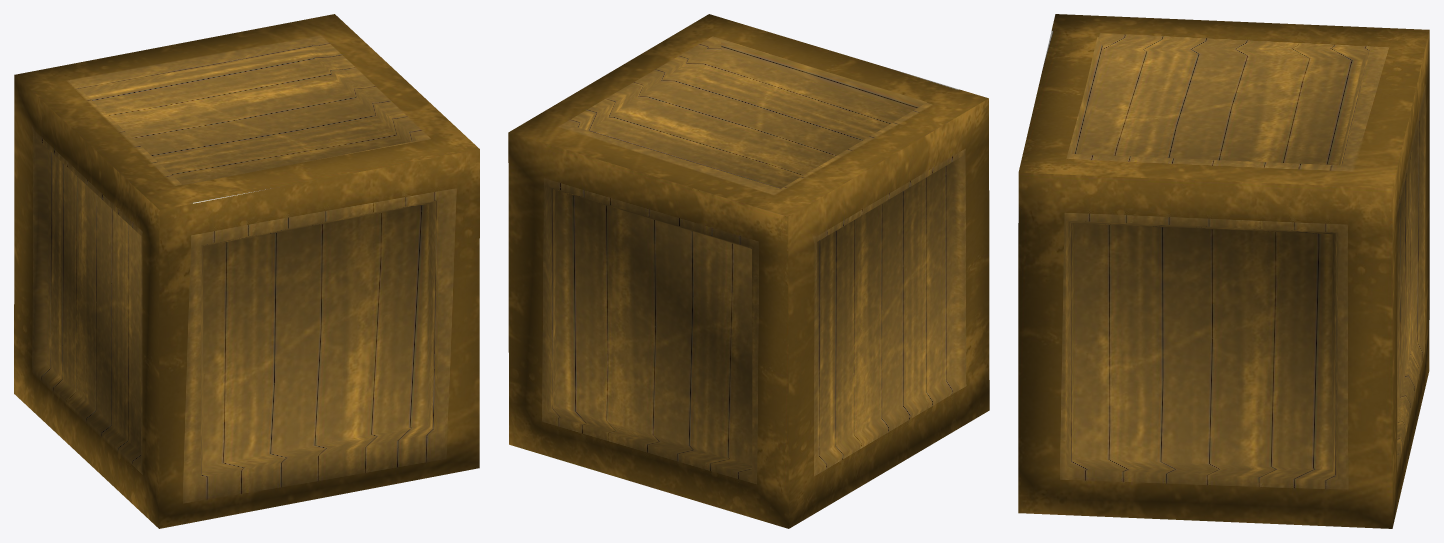
Rendered from crate.fbx.
3 renders of one model, left to right at view 1: azimuth 30°, elevation 25°; view 2: azimuth 150°, elevation 25°; view 3: azimuth 270°, elevation 25°, orthographic. The views are drawn at different scales.
Parts seen in each view (by area): view 1: Cube_010; view 2: Cube_010; view 3: Cube_010.
Boxes of the visible parts, <box> form: Cube_010: <box>14,14,479,528</box>; Cube_010: <box>508,14,989,528</box>; Cube_010: <box>1018,14,1429,528</box>.
Bounding box in the file's own units: 2.32 × 2.12 × 2.32.
